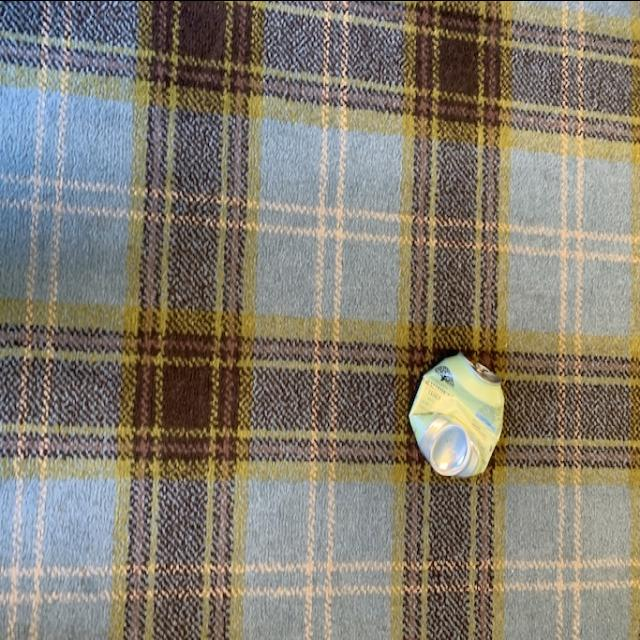litter: (402, 342, 514, 488)
